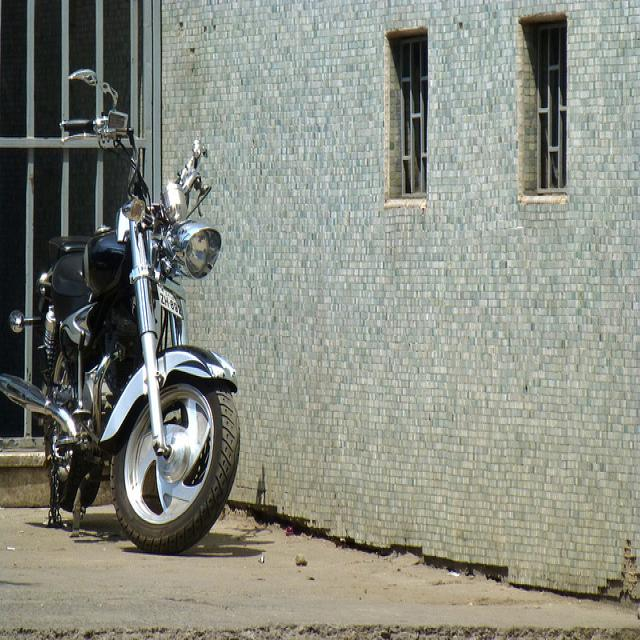motor: (0, 110, 241, 555)
